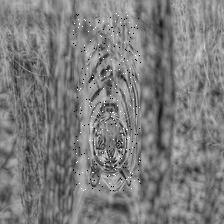tiger: (72, 11, 140, 190)
